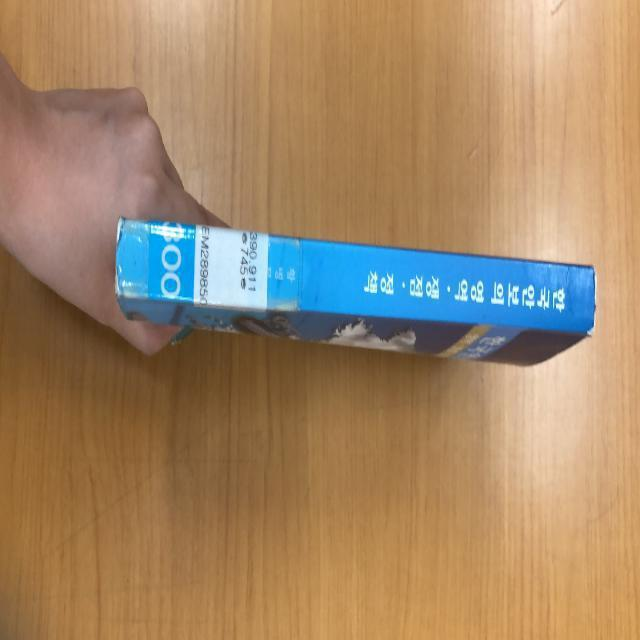Wornout: (111, 210, 133, 307), (582, 258, 599, 344)
